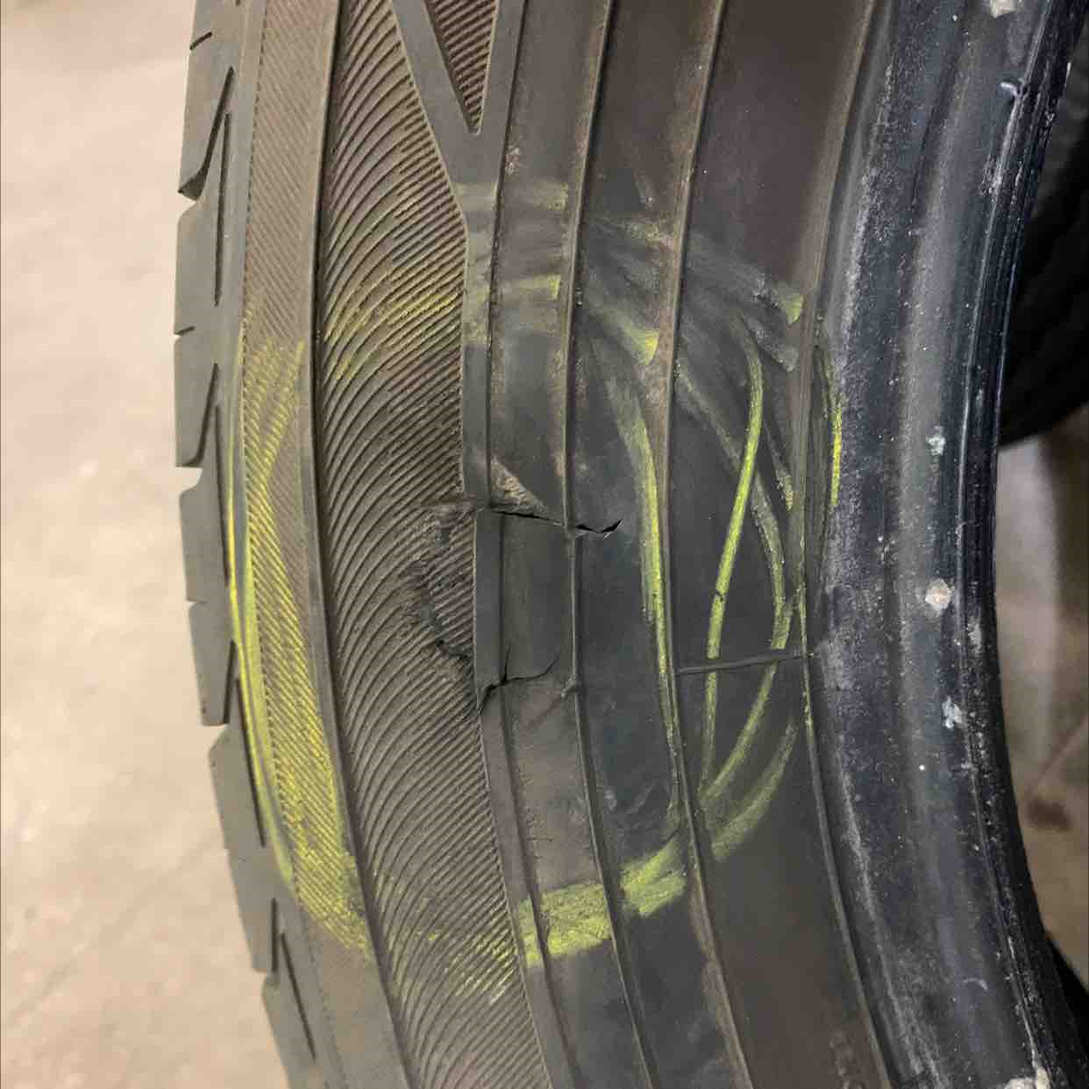cut: (422, 494, 623, 727)
